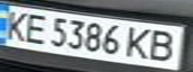3: (63, 17, 87, 52)
5: (45, 15, 69, 49)
6: (100, 21, 127, 56)
8: (81, 20, 106, 54)
B: (145, 27, 184, 63)
E: (18, 11, 51, 45)
K: (124, 25, 157, 61), (0, 8, 33, 42)
